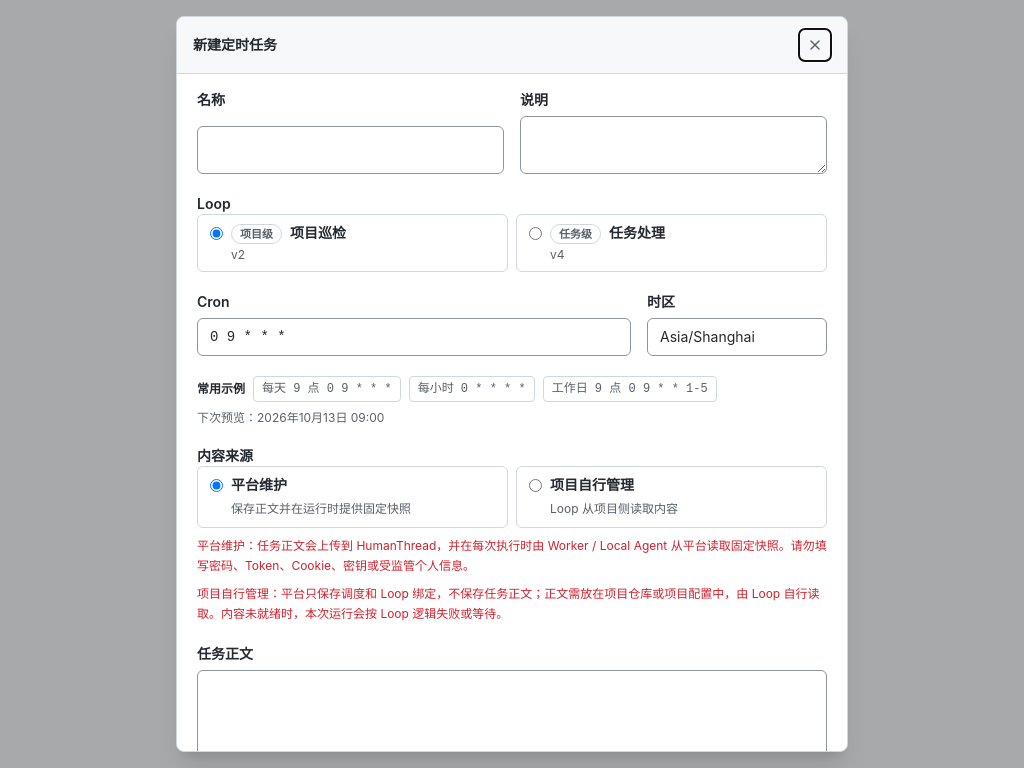
ProjectScheduledTaskDialog › renders only target options compatible with the selected Loop
This screenshot has width=1024, height=768.
Click the 2nd radio button: (536, 234) [529,227,542,240]
(page scrolled)
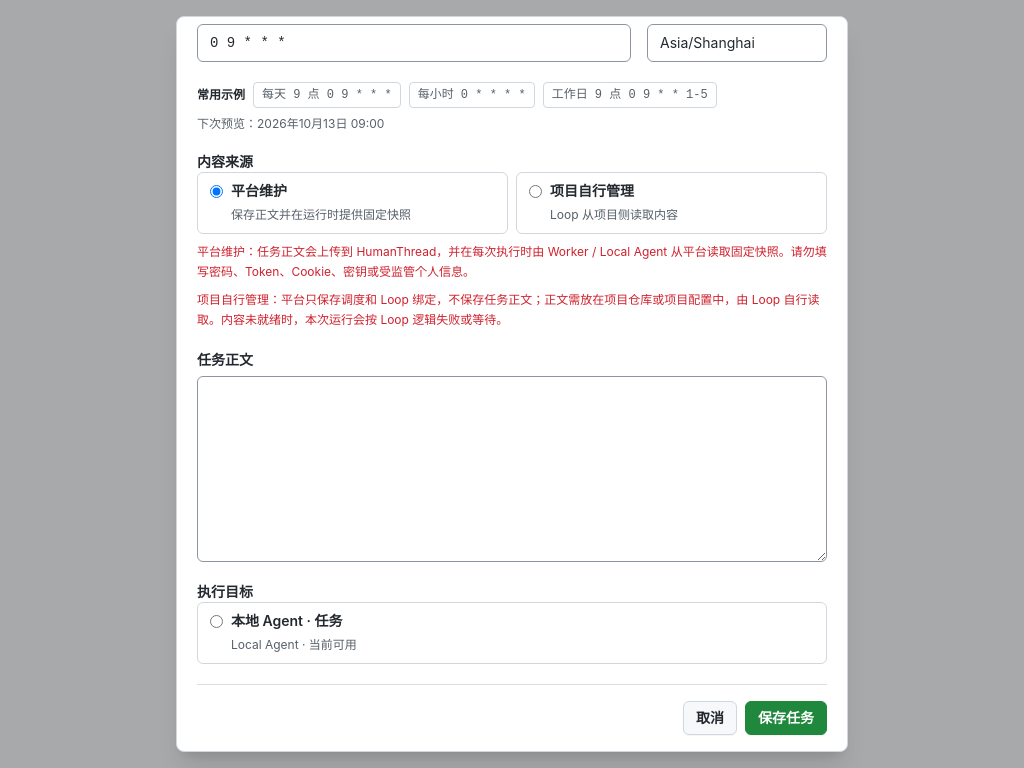
expect the radio button labelled "本地 Agent · 任务 Local Agent · 当前可用" is shown: met, box [210,615,223,628]
